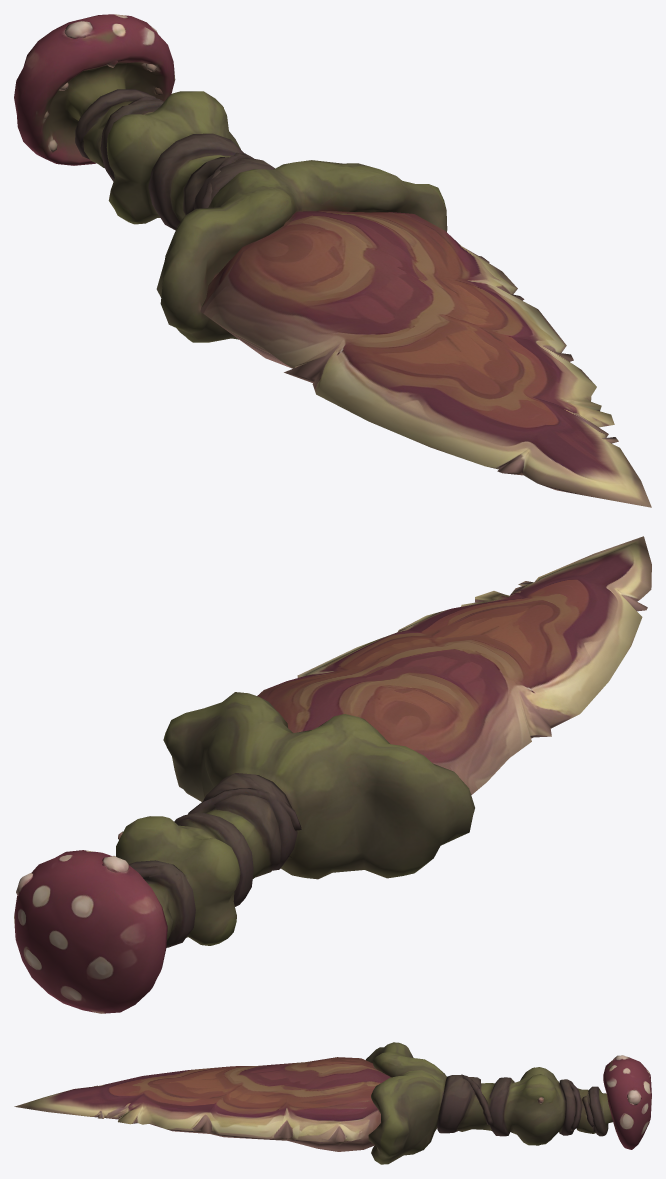
File: raider_sporeblight_knife_tripo.glb
The picture shows the model from 3 angles, top to bottom: view 1: azimuth 30°, elevation 25°; view 2: azimuth 150°, elevation 25°; view 3: azimuth 270°, elevation 25°; orthographic projection. The views are drawn at different scales.
Visible parts, largest first — view 1: tripo_node_9574f13b-dc29-455c-9772-27d8e46ca156; view 2: tripo_node_9574f13b-dc29-455c-9772-27d8e46ca156; view 3: tripo_node_9574f13b-dc29-455c-9772-27d8e46ca156.
Part boxes in pixels (x1=…): tripo_node_9574f13b-dc29-455c-9772-27d8e46ca156: x1=14, y1=14, x2=651, y2=507; tripo_node_9574f13b-dc29-455c-9772-27d8e46ca156: x1=14, y1=536, x2=651, y2=1013; tripo_node_9574f13b-dc29-455c-9772-27d8e46ca156: x1=14, y1=1042, x2=651, y2=1164.
Bounding box in the file's own units: 0.2949 × 0.1465 × 0.998.
Materials: 1 (1 with a texture image).
